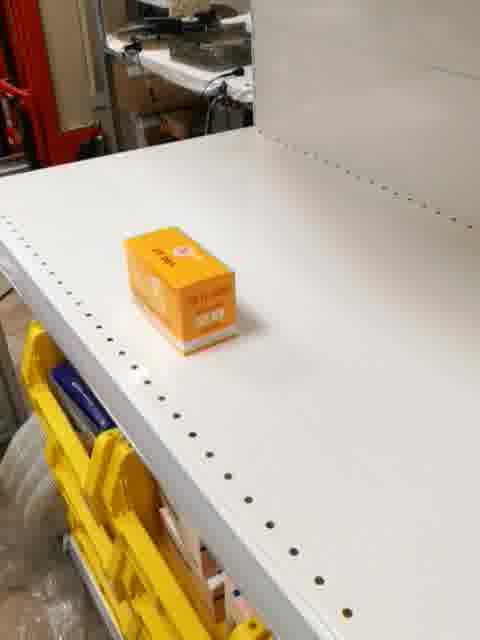jasminetea: (124, 223, 239, 358)
